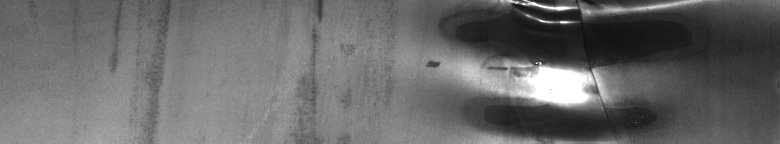ke: (426, 4, 704, 136)
